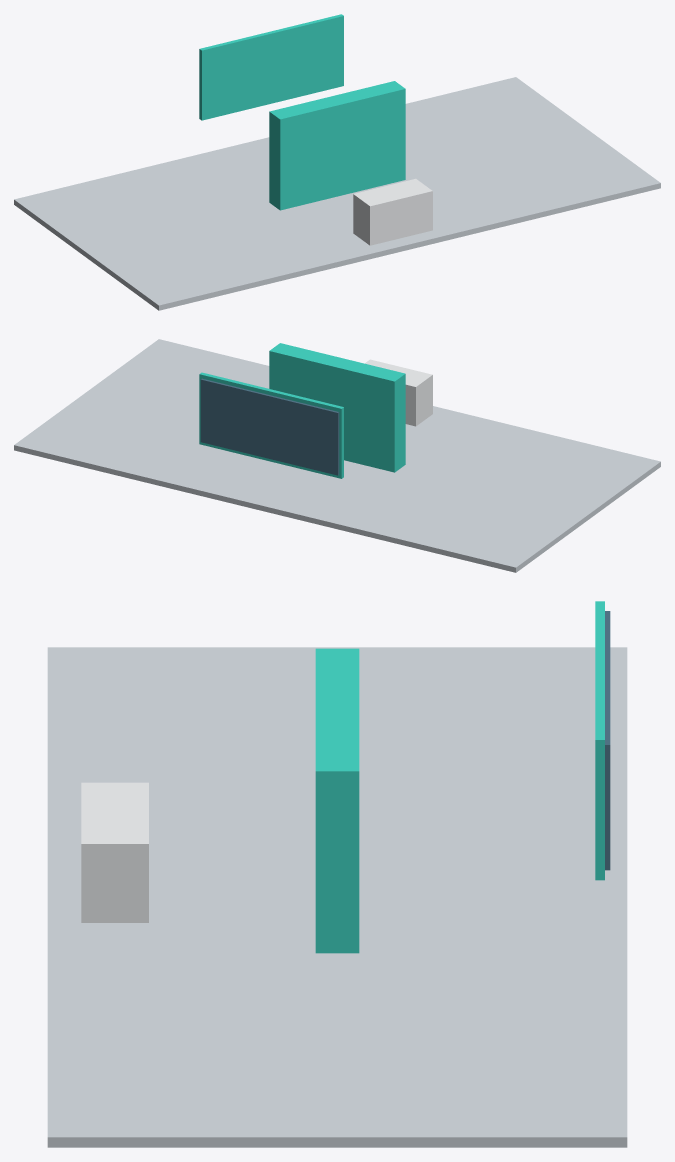
3 renders of one model, top to bottom at view 1: azimuth 30°, elevation 25°; view 2: azimuth 150°, elevation 25°; view 3: azimuth 270°, elevation 25°, orthographic. The views are drawn at different scales.
Visible parts, largest first — view 1: Exhibition Booth Concept; view 2: Exhibition Booth Concept; view 3: Exhibition Booth Concept.
Boxes of the visible parts, x1=… form: Exhibition Booth Concept: x1=14, y1=14, x2=660, y2=310; Exhibition Booth Concept: x1=14, y1=339, x2=660, y2=572; Exhibition Booth Concept: x1=47, y1=601, x2=627, y2=1147.
Bounding box in the file's own units: 12 × 2.65 × 6.
